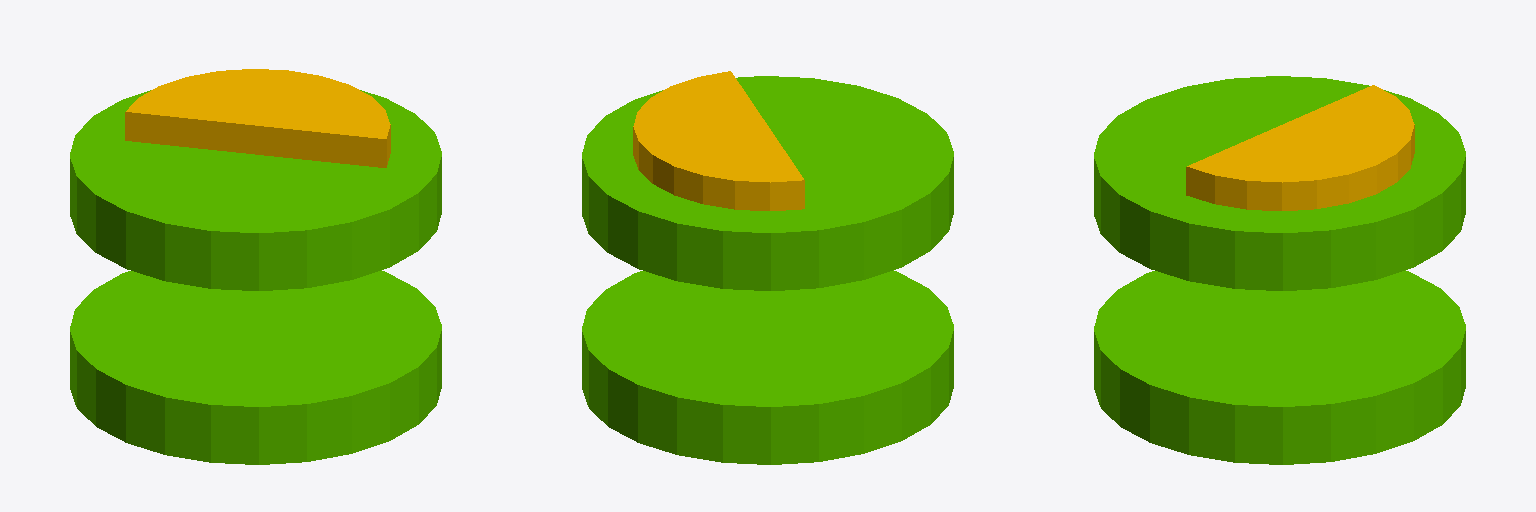
The model's file is carro_rodas_tras_2.obj.
3 renders of one model, left to right at view 1: azimuth 30°, elevation 25°; view 2: azimuth 150°, elevation 25°; view 3: azimuth 270°, elevation 25°, orthographic.
Parts seen in each view (by area): view 1: roda_tras2_Mesh30_Group30_Model; view 2: roda_tras2_Mesh30_Group30_Model; view 3: roda_tras2_Mesh30_Group30_Model.
Part boxes in pixels (left/top/right/bottom): roda_tras2_Mesh30_Group30_Model: left=70, top=69, right=441, bottom=464; roda_tras2_Mesh30_Group30_Model: left=582, top=71, right=953, bottom=464; roda_tras2_Mesh30_Group30_Model: left=1094, top=76, right=1465, bottom=464.
Bounding box in the file's own units: 58.33 × 45 × 58.33.